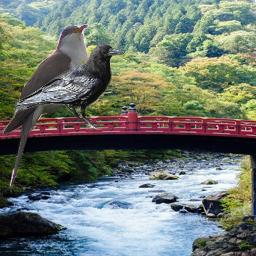Crow: (13, 42, 125, 130)
Cuckoo: (2, 24, 89, 191)
